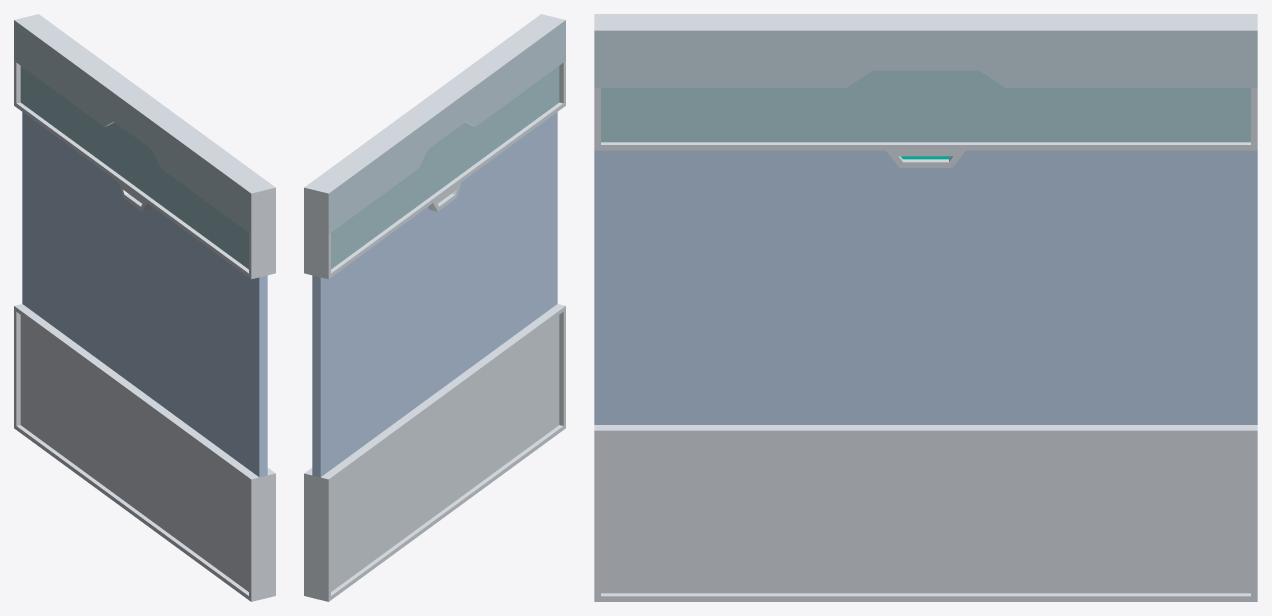
The model's file is window-06.fbx.
The picture shows the model from 3 angles, left to right: view 1: azimuth 30°, elevation 25°; view 2: azimuth 150°, elevation 25°; view 3: azimuth 270°, elevation 25°; orthographic projection. The views are drawn at different scales.
Parts seen in each view (by area): view 1: window-06; view 2: window-06; view 3: window-06.
Part boxes in pixels (x1,y1,x2,y2): window-06: (14, 14, 275, 601); window-06: (304, 14, 565, 601); window-06: (594, 14, 1257, 601).
Size of the model in its own units: 6 by 95 by 100.
